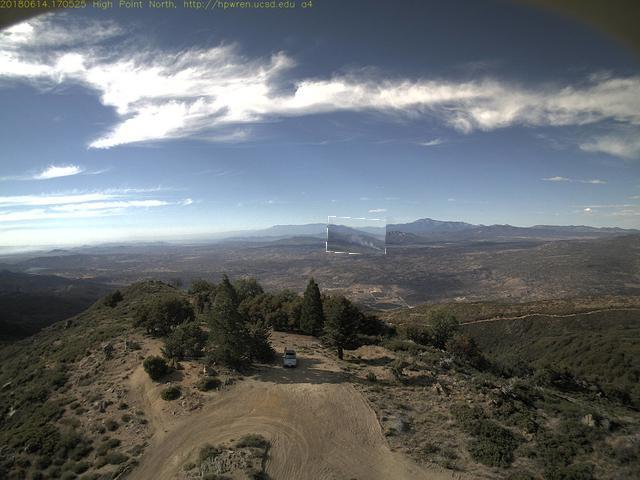smoke: (328, 218, 388, 255)
